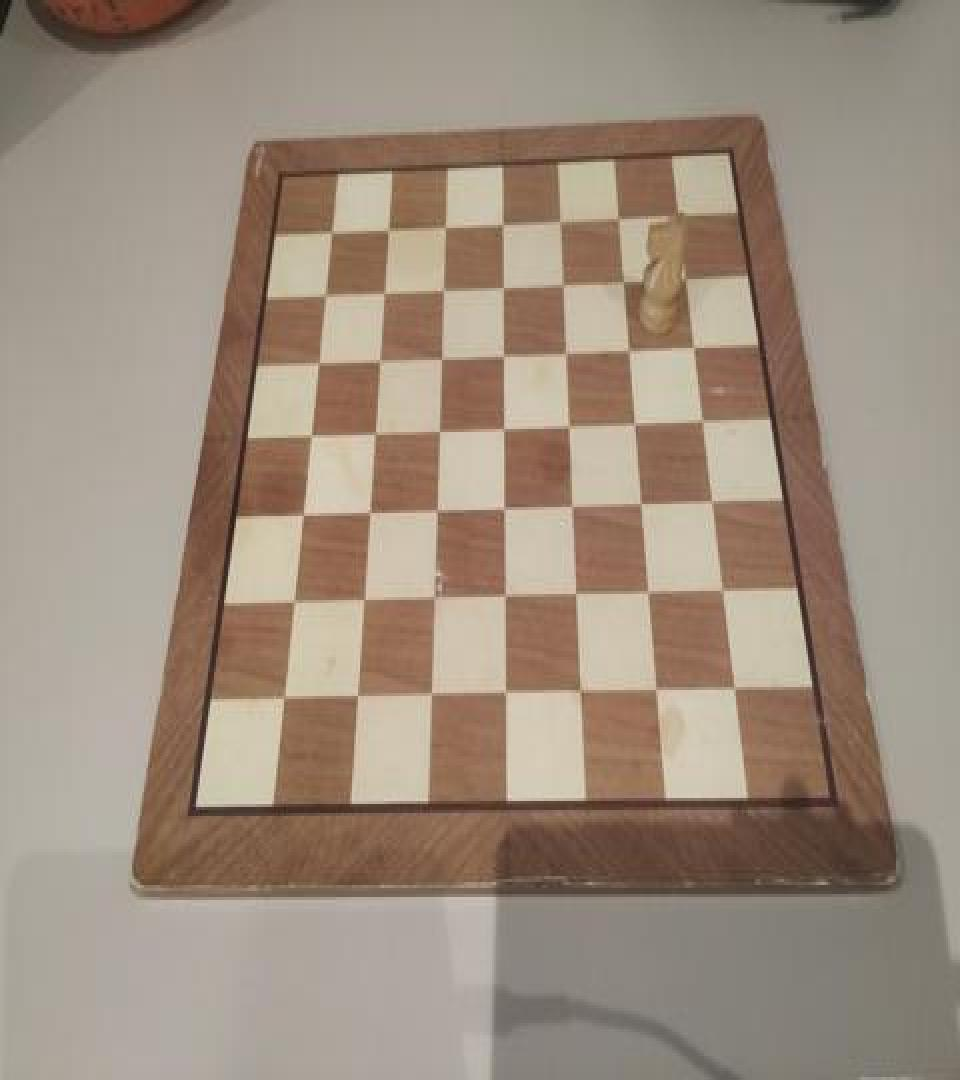xcorner: (315, 280, 335, 311), (346, 687, 366, 717), (421, 686, 441, 716), (496, 684, 516, 714), (649, 680, 669, 710), (726, 678, 746, 708), (282, 591, 302, 621), (353, 590, 373, 620), (496, 585, 516, 615), (568, 584, 588, 614), (641, 582, 661, 612), (714, 579, 734, 609), (291, 502, 311, 532), (359, 501, 379, 531), (427, 498, 447, 528), (495, 496, 515, 526), (564, 494, 584, 524), (633, 492, 653, 522), (703, 489, 723, 519), (300, 422, 320, 452), (364, 420, 384, 450), (429, 417, 449, 447), (495, 416, 515, 446), (561, 412, 581, 442), (627, 410, 647, 440), (693, 408, 713, 438), (308, 348, 328, 378), (370, 345, 390, 375), (432, 344, 452, 374), (494, 340, 514, 370), (557, 338, 577, 368), (621, 336, 641, 366), (684, 333, 704, 363), (374, 278, 394, 308), (434, 274, 454, 304), (494, 272, 514, 302), (554, 270, 574, 300), (615, 267, 635, 297), (676, 264, 696, 294), (322, 218, 342, 248), (379, 214, 399, 244), (436, 212, 456, 242), (494, 210, 514, 240), (552, 207, 572, 237), (610, 204, 630, 234), (669, 201, 689, 231), (272, 689, 292, 718), (572, 683, 592, 712), (424, 587, 444, 616)
